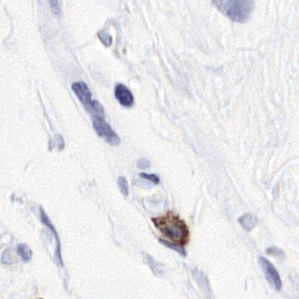Lymphocyte: (151, 208, 191, 246)
